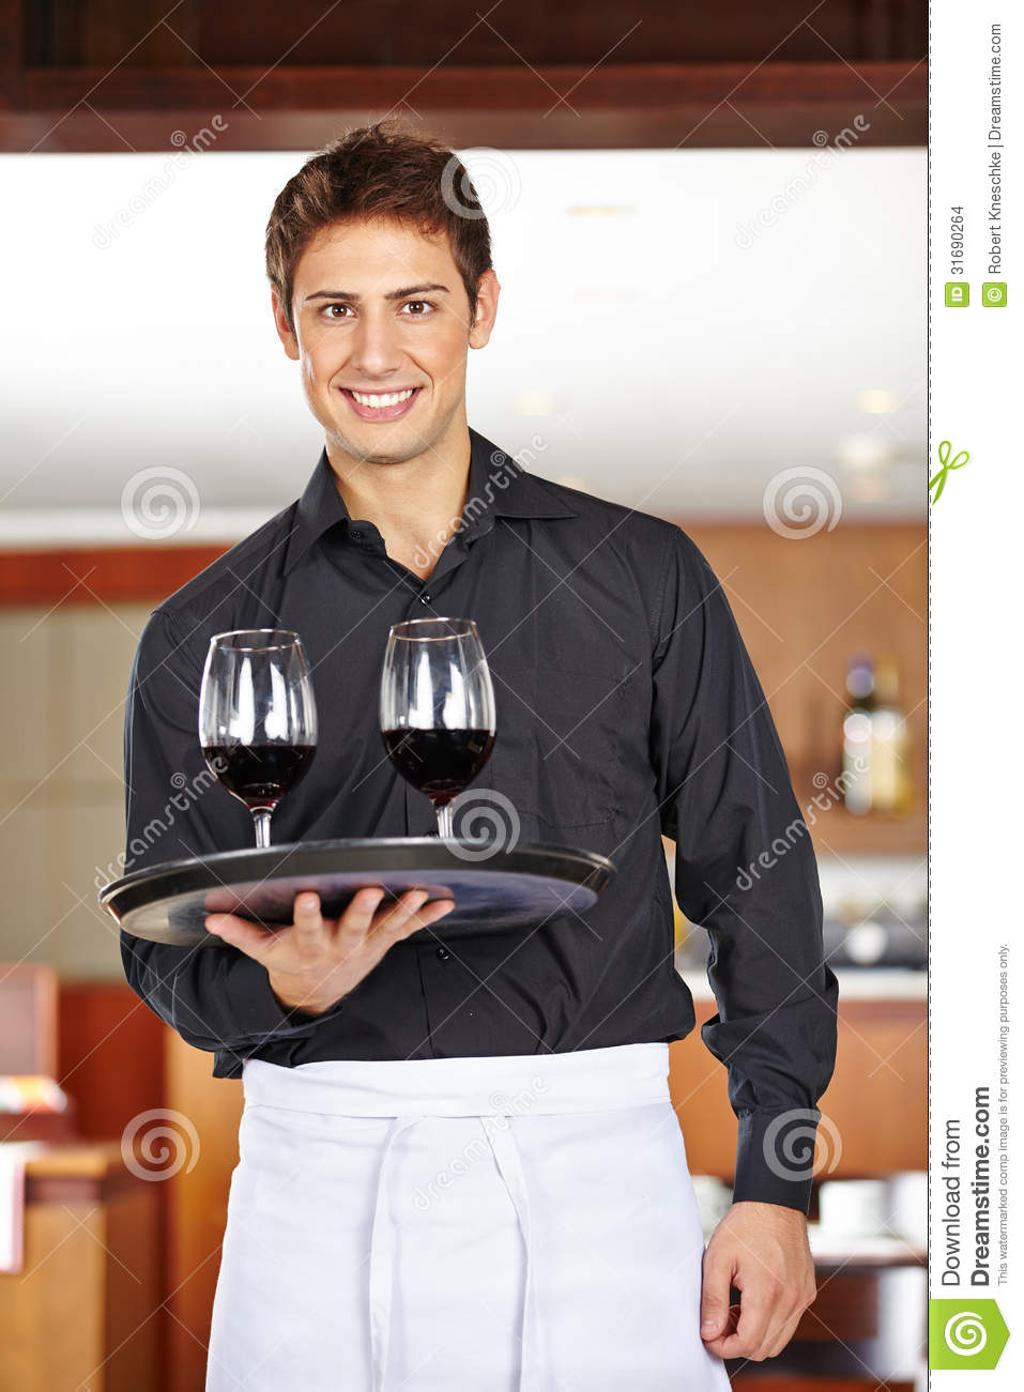face: (293, 217, 472, 456)
